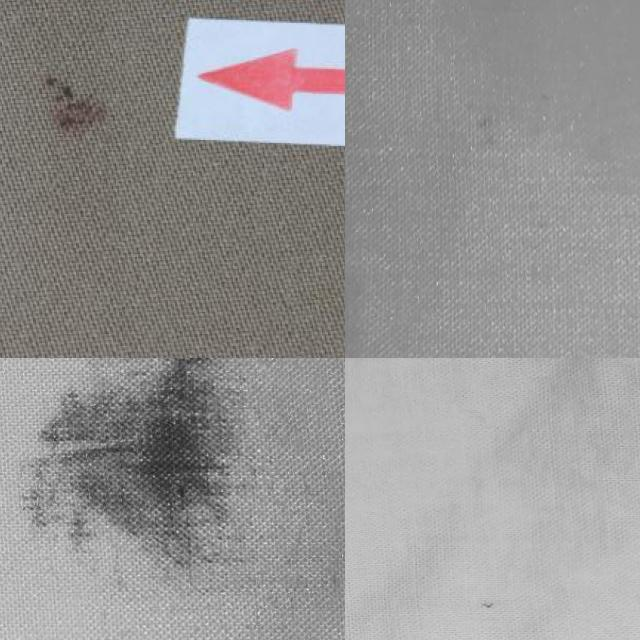Hole: (0, 358, 306, 624), (7, 0, 153, 214), (452, 582, 596, 640)
